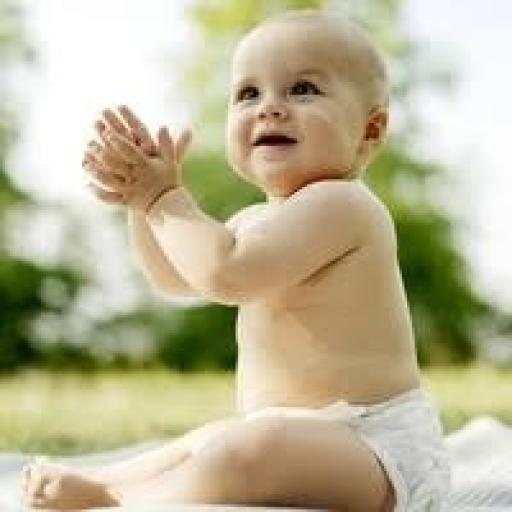clapping: (18, 5, 453, 510)
